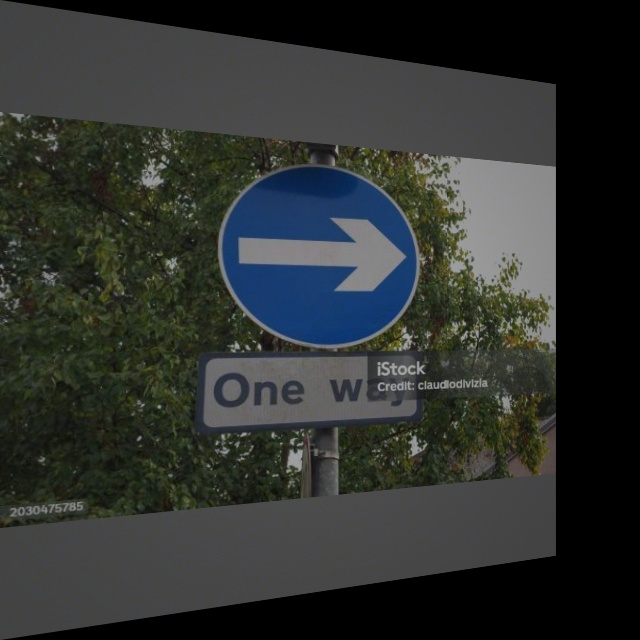Compulsory_Turn_Right: (218, 154, 422, 351)
